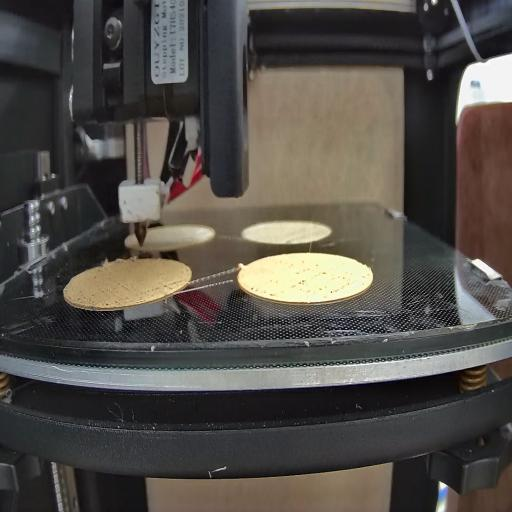under_extrusion: (292, 260, 350, 296), (69, 284, 131, 307), (251, 280, 277, 302), (144, 282, 181, 296)
